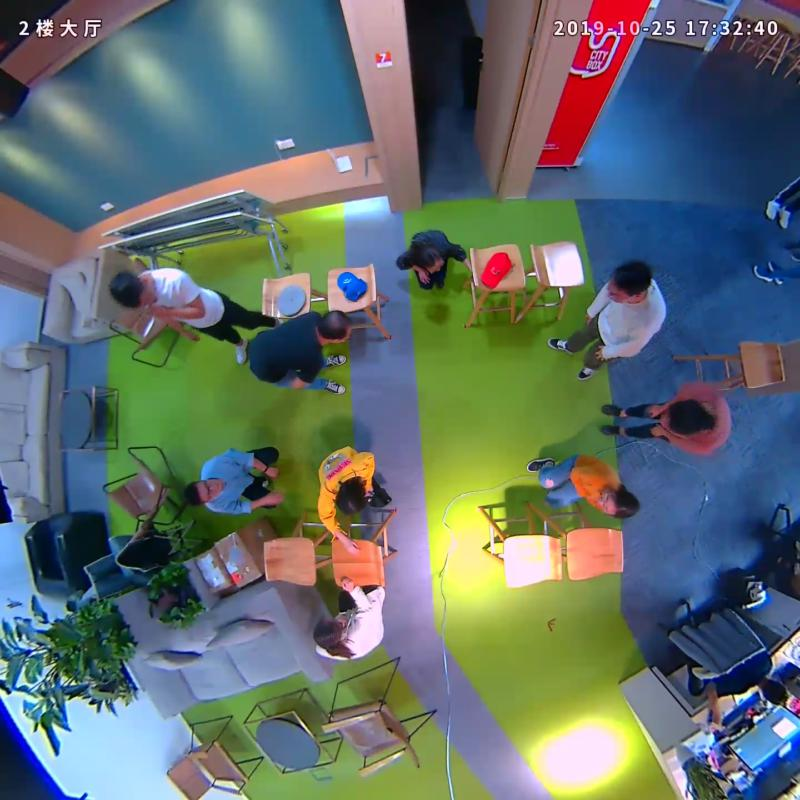head: (600, 256, 657, 306), (663, 396, 723, 440), (104, 268, 157, 313), (596, 480, 645, 524), (327, 474, 370, 516), (178, 476, 226, 512), (313, 304, 356, 344), (307, 611, 347, 654), (409, 241, 449, 277)
